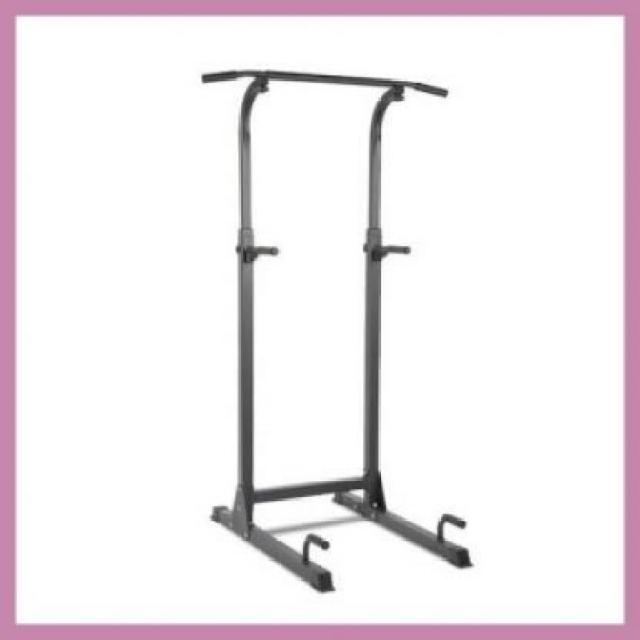chinning dipping: (200, 64, 478, 596)
